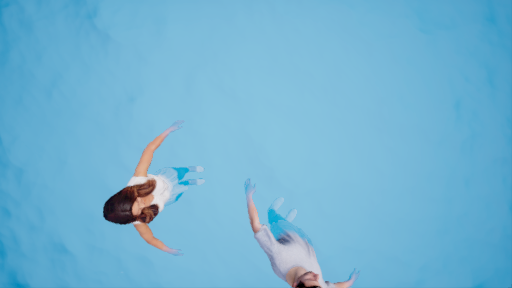person: (235, 178, 360, 288), (103, 121, 209, 250)
